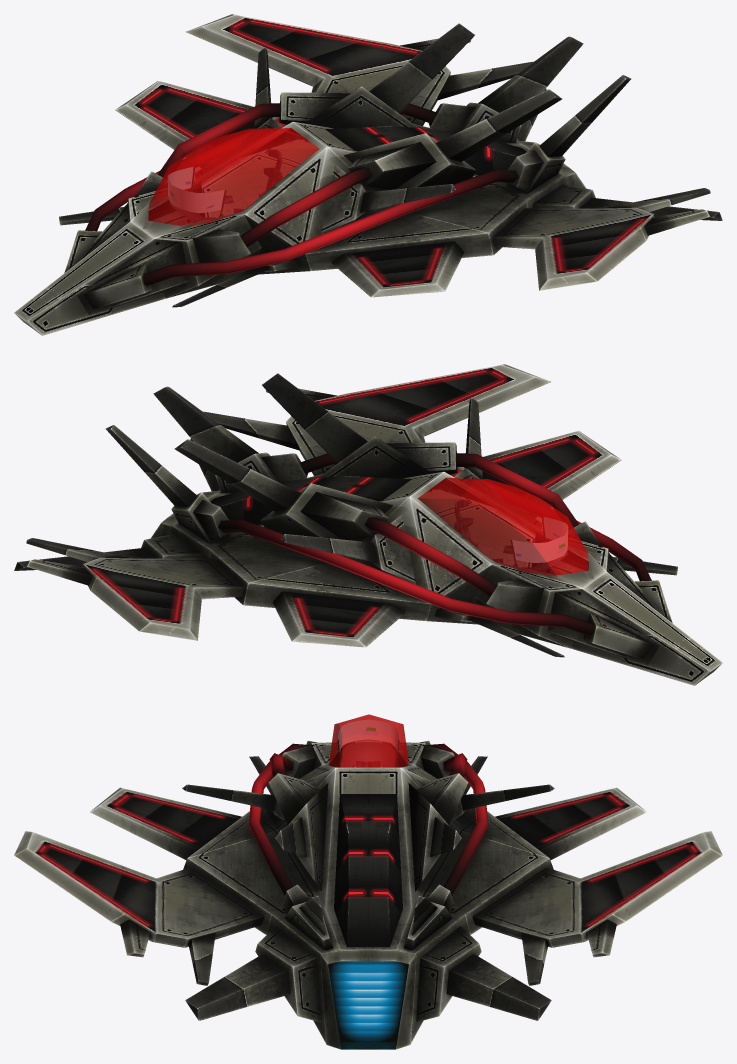
File: PlayerShip.fbx
3 renders of one model, top to bottom at view 1: azimuth 30°, elevation 25°; view 2: azimuth 150°, elevation 25°; view 3: azimuth 270°, elevation 25°, orthographic. The views are drawn at different scales.
Visible parts, largest first — view 1: alien_spacecraft_5, pCube1, polySurface17; view 2: alien_spacecraft_5, pCube1, polySurface17; view 3: alien_spacecraft_5, pCube1, polySurface17, polySurface16.
Part boxes in pixels (left/top/right/bottom): alien_spacecraft_5: left=14, top=14, right=722, bottom=335; pCube1: left=148, top=128, right=319, bottom=226; polySurface17: left=168, top=167, right=224, bottom=212; alien_spacecraft_5: left=14, top=364, right=722, bottom=685; pCube1: left=418, top=477, right=588, bottom=576; polySurface17: left=512, top=517, right=567, bottom=562; alien_spacecraft_5: left=14, top=739, right=722, bottom=1049; pCube1: left=328, top=714, right=408, bottom=767; polySurface17: left=338, top=720, right=398, bottom=750; polySurface16: left=338, top=742, right=398, bottom=767.
Size of the model in its own units: 168 by 49.28 by 173.
Materials: 7 (6 with a texture image).
